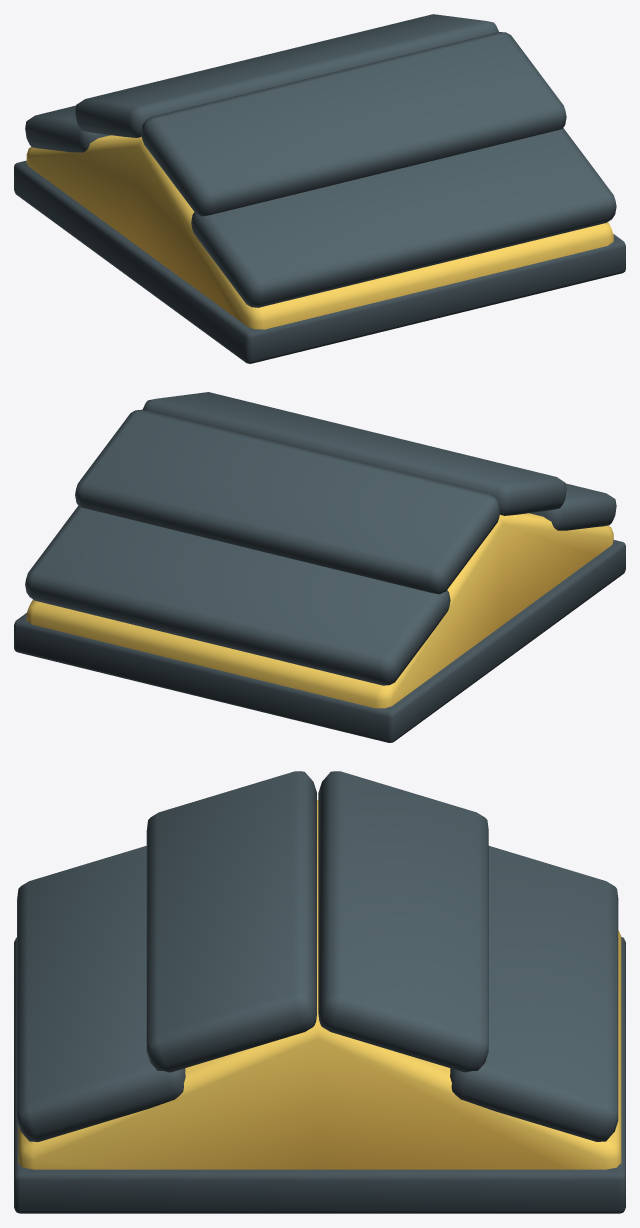
Rendered from mct_homepart_roof02.fbx.
The picture shows the model from 3 angles, top to bottom: view 1: azimuth 30°, elevation 25°; view 2: azimuth 150°, elevation 25°; view 3: azimuth 270°, elevation 25°; orthographic projection. The views are drawn at different scales.
Visible parts, largest first — view 1: roof_02; view 2: roof_02; view 3: roof_02.
Part boxes in pixels (x1=…): roof_02: x1=14, y1=14, x2=625, y2=363; roof_02: x1=14, y1=392, x2=625, y2=742; roof_02: x1=14, y1=771, x2=625, y2=1213.
Size of the model in its own units: 417 by 173 by 448.
